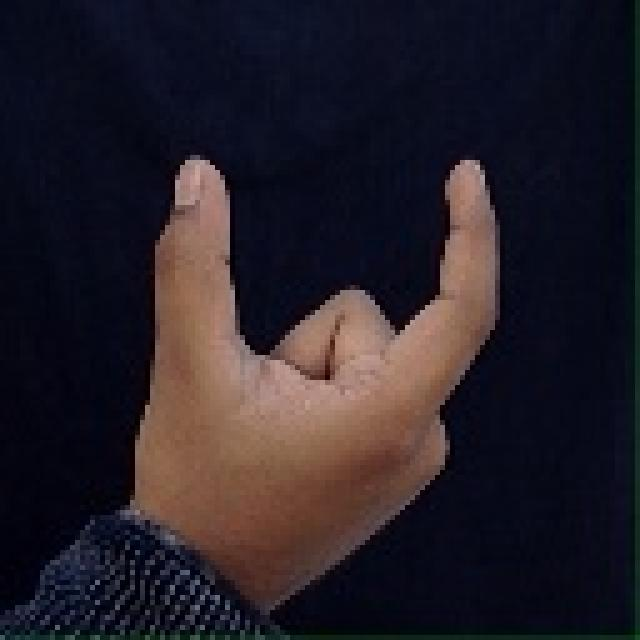Alphabet-U: (120, 89, 538, 620)
